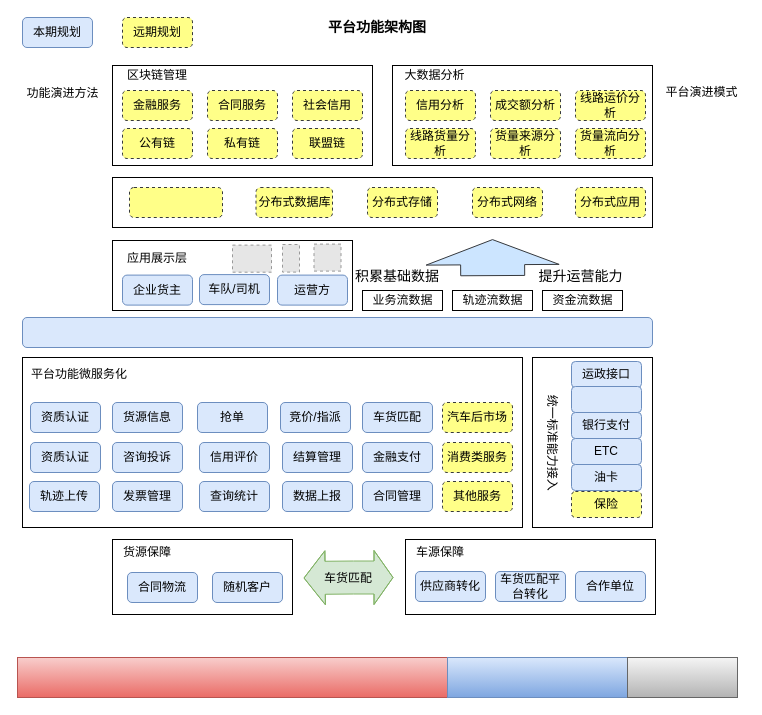
The diagram is 762 pixels wide and 715 high, and some of its shapes have lost their labels. Grey dashed boxes stand in for pictures. Each missing label, with the centre of its shape:
1.1万亿 零担运输: (x=537, y=677)
3万亿 整车运输 区域性分散: (x=232, y=677)
4000亿快运快递: (x=682, y=677)
API能力开放: (x=337, y=332)
分布式计算平台: (x=175, y=202)
财辅接口: (x=606, y=399)
